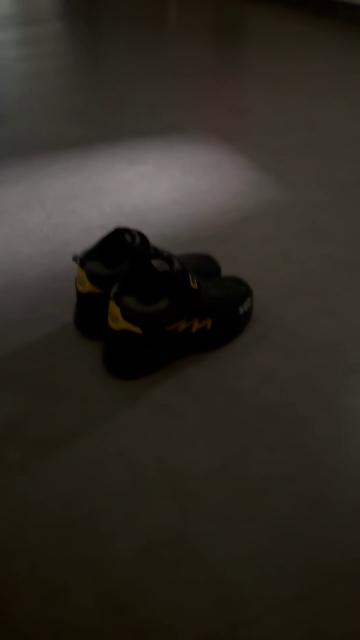shoe_worn: (73, 227, 221, 344), (99, 271, 254, 382)
